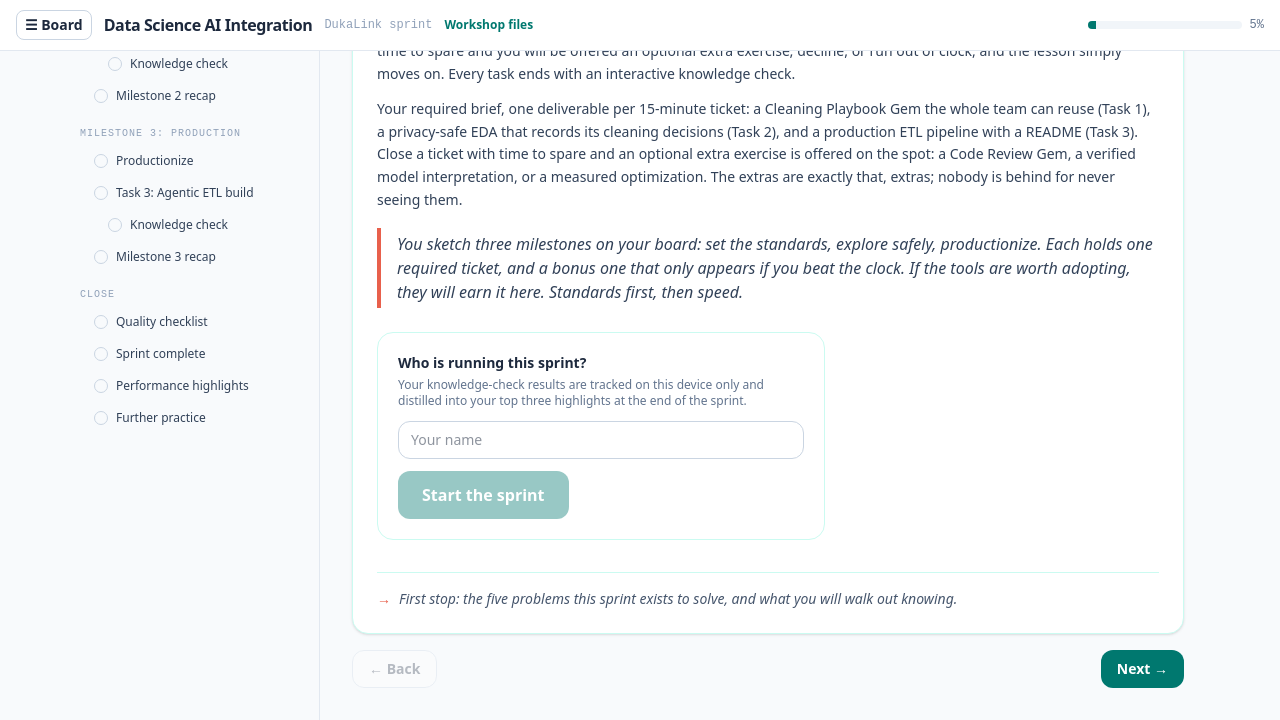
welcome and storyline › requires a name before the sprint can start
(page scrolled)
Expected: the button "Start the sprint" is disabled, [398, 470, 568, 518]
Type "Amina" into the field with placeholder "Your name". click: x=601, y=440
box: [398, 420, 804, 458]
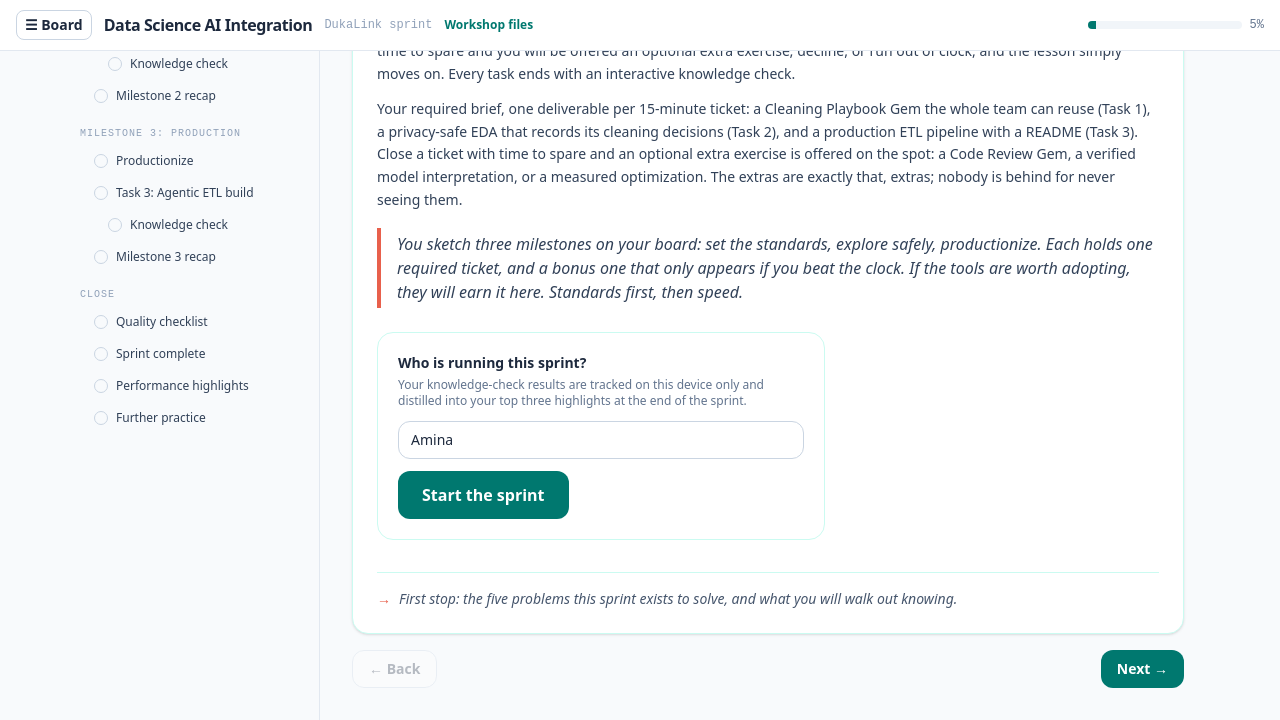
Expected: the button "Start the sprint" is enabled, [398, 470, 568, 518]
